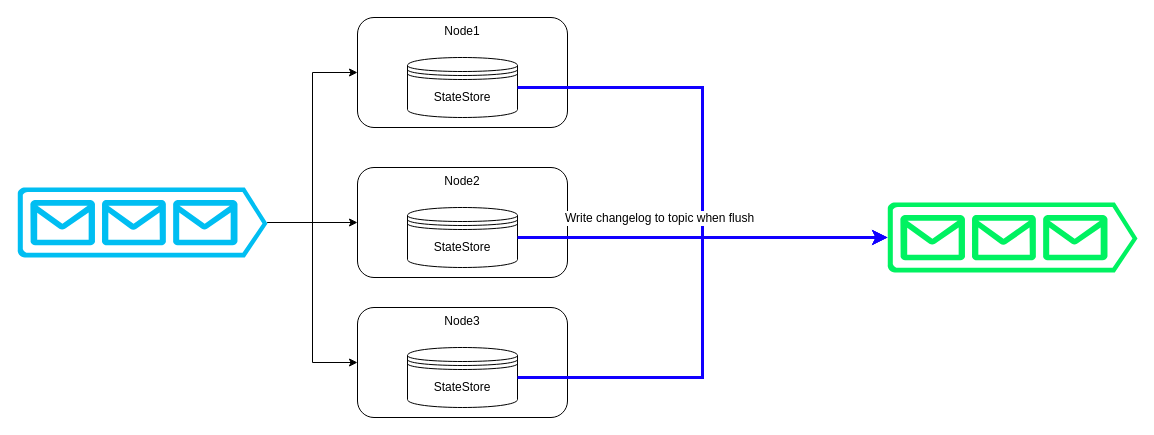
This 1154x435 diagram has some shape labels left out. The shapes that lost their labels are listed below. From the top down, each one's centre as x and y in pixels, then its label:
[142,222]: Processor Pipeline
[1012,237]: StateStore changelog topic
